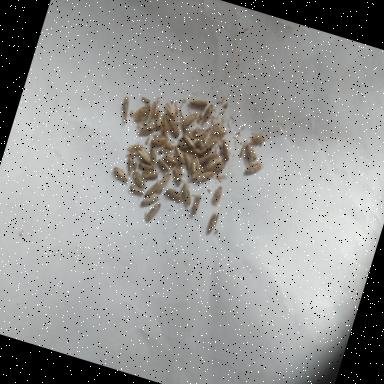pbw: (242, 154, 265, 180), (214, 136, 234, 164), (138, 189, 162, 212), (140, 199, 160, 226), (185, 154, 204, 182), (114, 96, 132, 125), (142, 177, 162, 203), (147, 106, 166, 132), (128, 169, 150, 191), (108, 164, 132, 184), (196, 144, 216, 168), (197, 131, 217, 155), (130, 101, 150, 124), (202, 152, 222, 174), (162, 186, 184, 206), (154, 155, 174, 176), (176, 184, 195, 206), (168, 146, 188, 166), (198, 101, 214, 126), (164, 116, 182, 138), (124, 140, 146, 158), (155, 170, 171, 194), (122, 154, 138, 178), (204, 212, 220, 236), (156, 112, 172, 136), (194, 167, 214, 186), (240, 144, 259, 164), (135, 146, 155, 164), (149, 130, 169, 148), (235, 137, 250, 161), (187, 192, 201, 217), (145, 98, 158, 124), (180, 110, 198, 128), (136, 122, 155, 139), (208, 159, 225, 178), (140, 167, 160, 183), (146, 146, 162, 166), (209, 185, 223, 207), (186, 94, 208, 108), (179, 152, 196, 170), (159, 151, 178, 167), (248, 130, 264, 148), (179, 132, 197, 148), (137, 160, 157, 174), (162, 101, 178, 118), (189, 164, 204, 182), (170, 167, 184, 186), (158, 138, 174, 153), (128, 184, 144, 195), (189, 144, 202, 154), (140, 96, 150, 103), (144, 136, 149, 144)
